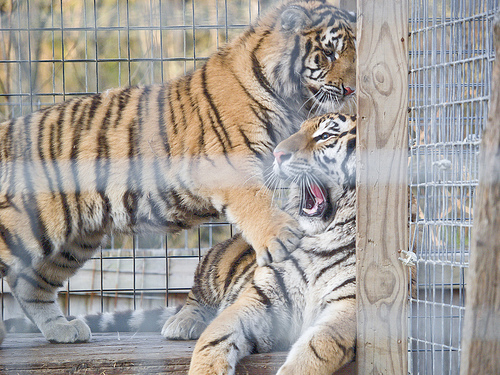Tigre: (2, 27, 349, 184), (277, 117, 447, 349)
